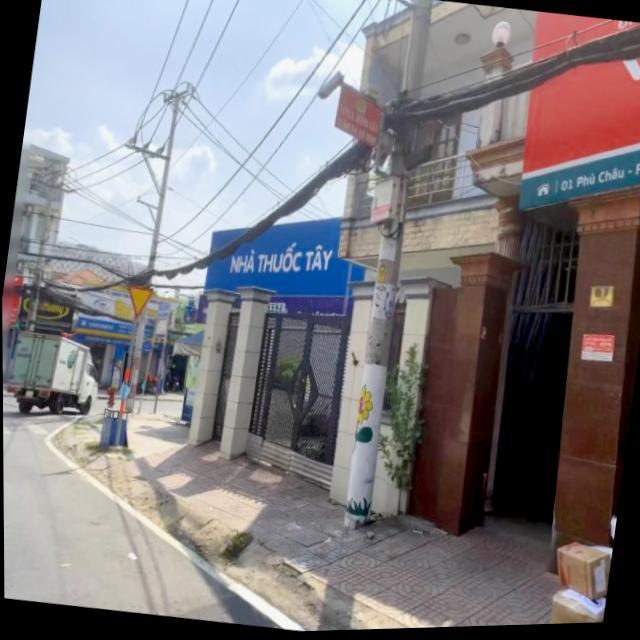Giao nhau voi duong uu tien: (123, 284, 154, 321)
